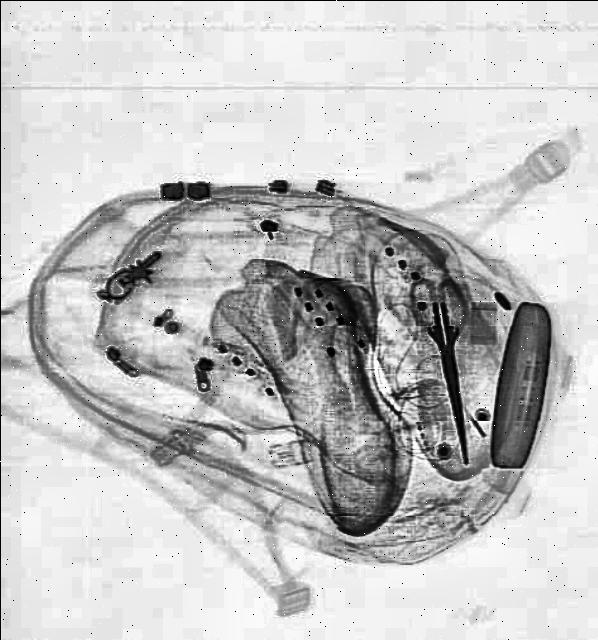Knife: (422, 298, 481, 464)
